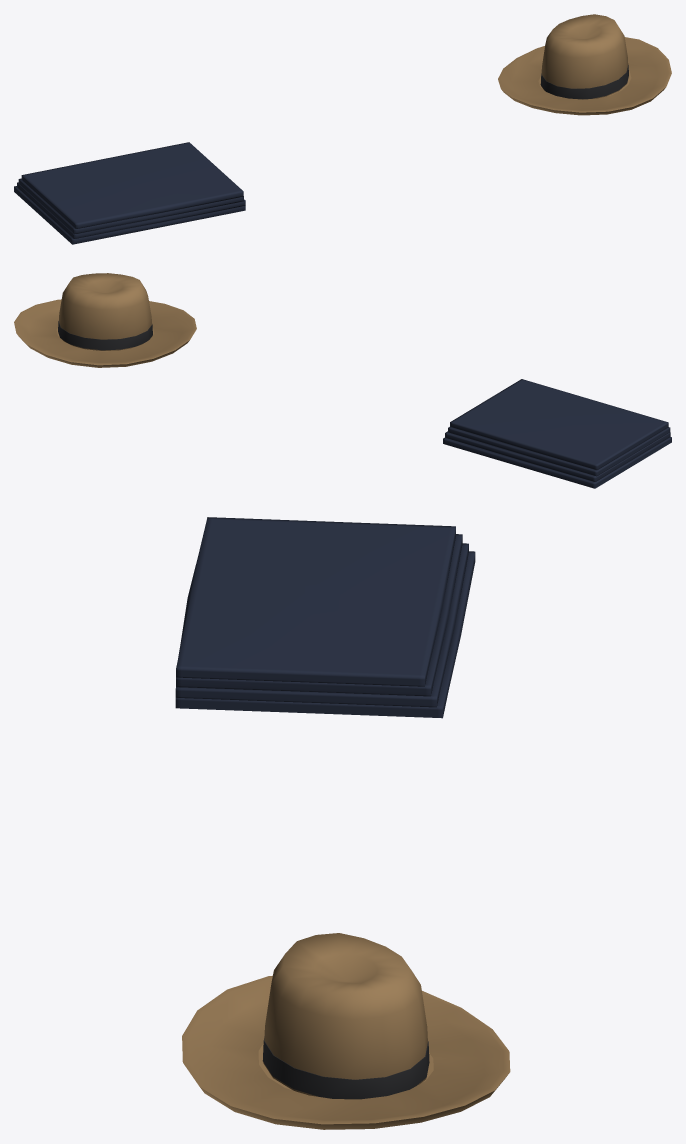
File: decor_a_soft_bench_cloak.gltf
The picture shows the model from 3 angles, top to bottom: view 1: azimuth 30°, elevation 25°; view 2: azimuth 150°, elevation 25°; view 3: azimuth 270°, elevation 25°; orthographic projection. The views are drawn at different scales.
Visible parts, largest first — view 1: DecorASoftBenchCloak_coatnavy_NoCollide, DecorASoftBenchCloak_coatcamel_NoCollide, DecorASoftBenchCloak_coatcharcoal_NoCollide; view 2: DecorASoftBenchCloak_coatnavy_NoCollide, DecorASoftBenchCloak_coatcamel_NoCollide, DecorASoftBenchCloak_coatcharcoal_NoCollide; view 3: DecorASoftBenchCloak_coatnavy_NoCollide, DecorASoftBenchCloak_coatcamel_NoCollide, DecorASoftBenchCloak_coatcharcoal_NoCollide.
Boxes of the visible parts, box(x1,y1,x2,y2) form: DecorASoftBenchCloak_coatnavy_NoCollide: box(14, 142, 245, 244); DecorASoftBenchCloak_coatcamel_NoCollide: box(498, 14, 671, 115); DecorASoftBenchCloak_coatcharcoal_NoCollide: box(540, 65, 628, 99); DecorASoftBenchCloak_coatnavy_NoCollide: box(443, 379, 671, 488); DecorASoftBenchCloak_coatcamel_NoCollide: box(14, 273, 196, 367); DecorASoftBenchCloak_coatcharcoal_NoCollide: box(58, 321, 152, 350); DecorASoftBenchCloak_coatnavy_NoCollide: box(175, 517, 475, 718); DecorASoftBenchCloak_coatcamel_NoCollide: box(182, 933, 510, 1129); DecorASoftBenchCloak_coatcharcoal_NoCollide: box(262, 1036, 429, 1099).
Size of the model in its own units: 1.36 by 0.116 by 0.3243.
